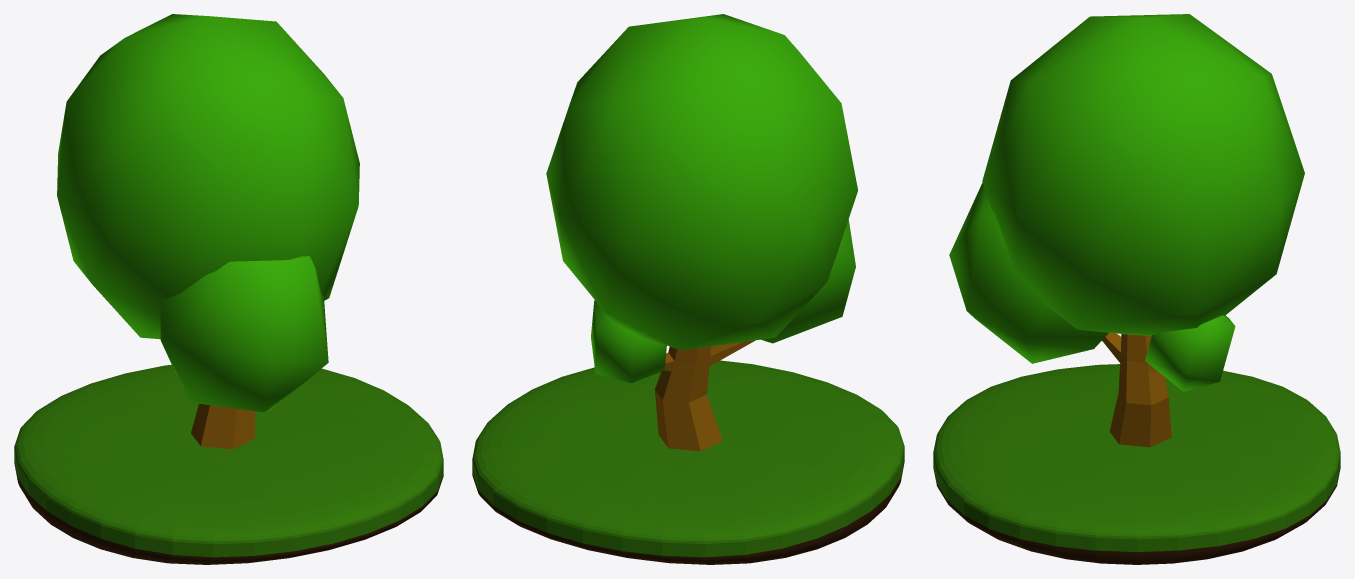
The model's file is tree.gltf.
The picture shows the model from 3 angles, left to right: view 1: azimuth 30°, elevation 25°; view 2: azimuth 150°, elevation 25°; view 3: azimuth 270°, elevation 25°; orthographic projection. The views are drawn at different scales.
Visible parts, largest first — view 1: Icosphere001_Icosphere010, Plane-Mesh, Plane-Mesh_1, Cylinder_Cylinder005; view 2: Icosphere001_Icosphere010, Plane-Mesh, Cylinder_Cylinder005, Plane-Mesh_1; view 3: Icosphere001_Icosphere010, Plane-Mesh, Cylinder_Cylinder005, Plane-Mesh_1.
Part boxes in pixels (<box>): Icosphere001_Icosphere010: <box>57,14,359,411</box>; Plane-Mesh: <box>14,364,443,557</box>; Plane-Mesh_1: <box>14,461,443,564</box>; Cylinder_Cylinder005: <box>191,404,255,449</box>; Icosphere001_Icosphere010: <box>546,14,857,383</box>; Plane-Mesh: <box>472,360,904,557</box>; Cylinder_Cylinder005: <box>655,340,755,451</box>; Plane-Mesh_1: <box>472,460,904,564</box>; Icosphere001_Icosphere010: <box>949,14,1304,391</box>; Plane-Mesh: <box>933,364,1340,551</box>; Cylinder_Cylinder005: <box>1102,332,1171,447</box>; Plane-Mesh_1: <box>933,467,1340,564</box>.
Size of the model in its own units: 11.68 by 14.71 by 11.65.
